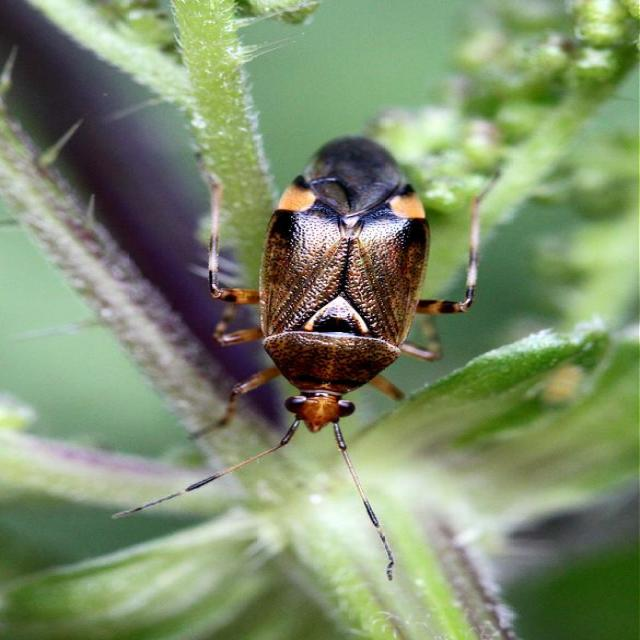Miridae-Adult-: (88, 118, 520, 586)
